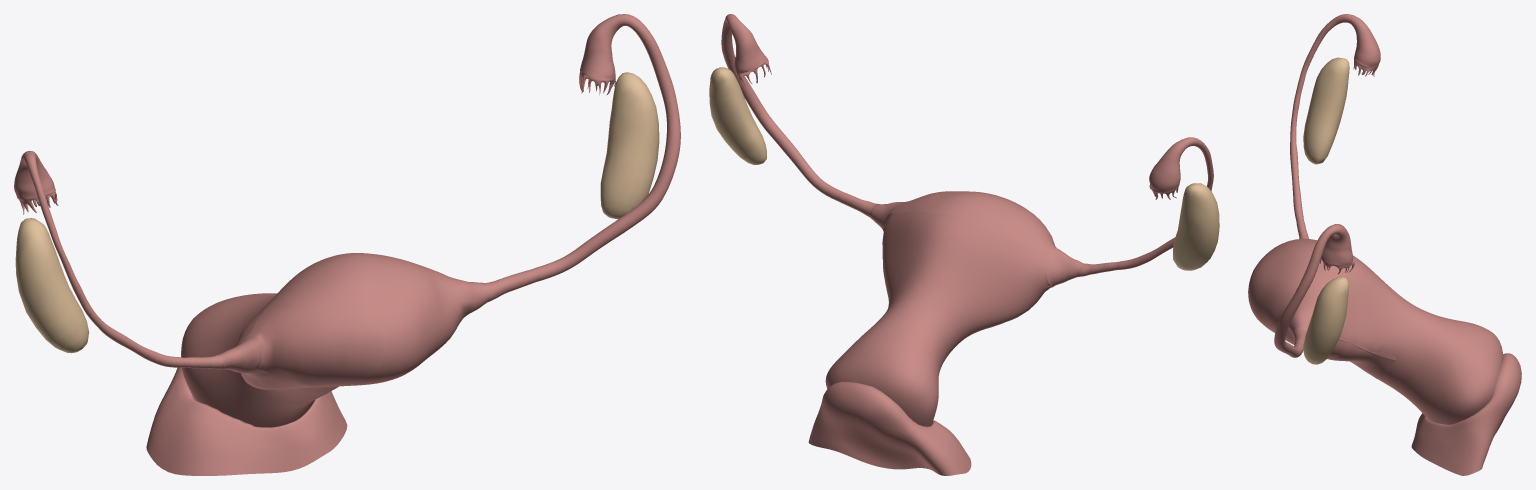
File: reproductive.glb
The picture shows the model from 3 angles, left to right: view 1: azimuth 30°, elevation 25°; view 2: azimuth 150°, elevation 25°; view 3: azimuth 270°, elevation 25°; orthographic projection. The views are drawn at different scales.
Visible parts, largest first — view 1: VH_F_fundus_of_uterus, VH_F_cervicovaginal_junction, VH_F_cervix, VH_F_left_ovary, VH_F_right_ovary, VH_F_ampulla_of_uterine_tube_L, VH_F_ampulla_of_uterine_tube_R, VH_F_cornua, VH_F_uterine_tube_infundibulum_L, VH_F_posterior_wall_of_uterus, VH_F_uterine_tube_infundibulum_R, VH_F_lower_uterine_segment (+2 smaller); view 2: VH_F_body_of_uterus, VH_F_cervicovaginal_junction, VH_F_cervix, VH_F_fundus_of_uterus, VH_F_left_ovary, VH_F_right_ovary, VH_F_ampulla_of_uterine_tube_L, VH_F_lower_uterine_segment, VH_F_cornua, VH_F_uterine_tube_infundibulum_R, VH_F_uterine_tube_infundibulum_L, VH_F_ampulla_of_uterine_tube_R; view 3: VH_F_cervix, VH_F_cervicovaginal_junction, VH_F_body_of_uterus, VH_F_fundus_of_uterus, VH_F_right_ovary, VH_F_left_ovary, VH_F_lower_uterine_segment, VH_F_ampulla_of_uterine_tube_L, VH_F_ampulla_of_uterine_tube_R, VH_F_uterine_tube_infundibulum_R, VH_F_uterine_tube_infundibulum_L, VH_F_posterior_wall_of_uterus (+2 smaller).
Boxes of the visible parts, bbox=[...] form: VH_F_fundus_of_uterus: bbox=[248, 253, 465, 385]; VH_F_cervicovaginal_junction: bbox=[146, 367, 347, 475]; VH_F_cervix: bbox=[181, 293, 314, 427]; VH_F_left_ovary: bbox=[600, 72, 659, 219]; VH_F_right_ovary: bbox=[15, 218, 89, 353]; VH_F_ampulla_of_uterine_tube_L: bbox=[532, 14, 680, 281]; VH_F_ampulla_of_uterine_tube_R: bbox=[23, 151, 187, 367]; VH_F_cornua: bbox=[220, 278, 487, 373]; VH_F_uterine_tube_infundibulum_L: bbox=[580, 14, 621, 78]; VH_F_posterior_wall_of_uterus: bbox=[252, 328, 456, 397]; VH_F_uterine_tube_infundibulum_R: bbox=[14, 150, 55, 199]; VH_F_lower_uterine_segment: bbox=[240, 294, 321, 406]; VH_F_body_of_uterus: bbox=[882, 211, 1052, 342]; VH_F_cervicovaginal_junction: bbox=[808, 381, 971, 475]; VH_F_cervix: bbox=[825, 318, 944, 426]; VH_F_fundus_of_uterus: bbox=[887, 191, 1056, 255]; VH_F_left_ovary: bbox=[709, 67, 766, 164]; VH_F_right_ovary: bbox=[1173, 183, 1219, 270]; VH_F_ampulla_of_uterine_tube_L: bbox=[721, 14, 841, 200]; VH_F_lower_uterine_segment: bbox=[878, 298, 961, 362]; VH_F_cornua: bbox=[871, 202, 1083, 286]; VH_F_uterine_tube_infundibulum_R: bbox=[1149, 139, 1187, 192]; VH_F_uterine_tube_infundibulum_L: bbox=[728, 18, 766, 73]; VH_F_ampulla_of_uterine_tube_R: bbox=[1114, 137, 1213, 269]; VH_F_cervix: bbox=[1399, 316, 1502, 424]; VH_F_cervicovaginal_junction: bbox=[1411, 353, 1521, 475]; VH_F_body_of_uterus: bbox=[1329, 255, 1414, 366]; VH_F_fundus_of_uterus: bbox=[1248, 238, 1341, 341]; VH_F_right_ovary: bbox=[1303, 57, 1349, 164]; VH_F_left_ovary: bbox=[1303, 277, 1349, 364]; VH_F_lower_uterine_segment: bbox=[1378, 305, 1439, 391]; VH_F_ampulla_of_uterine_tube_L: bbox=[1274, 224, 1339, 357]; VH_F_ampulla_of_uterine_tube_R: bbox=[1290, 14, 1353, 220]; VH_F_uterine_tube_infundibulum_R: bbox=[1350, 15, 1380, 67]; VH_F_uterine_tube_infundibulum_L: bbox=[1321, 224, 1353, 265]; VH_F_posterior_wall_of_uterus: bbox=[1263, 324, 1395, 378].
Bounding box in the file's own units: 3.35 × 2.18 × 1.65.
